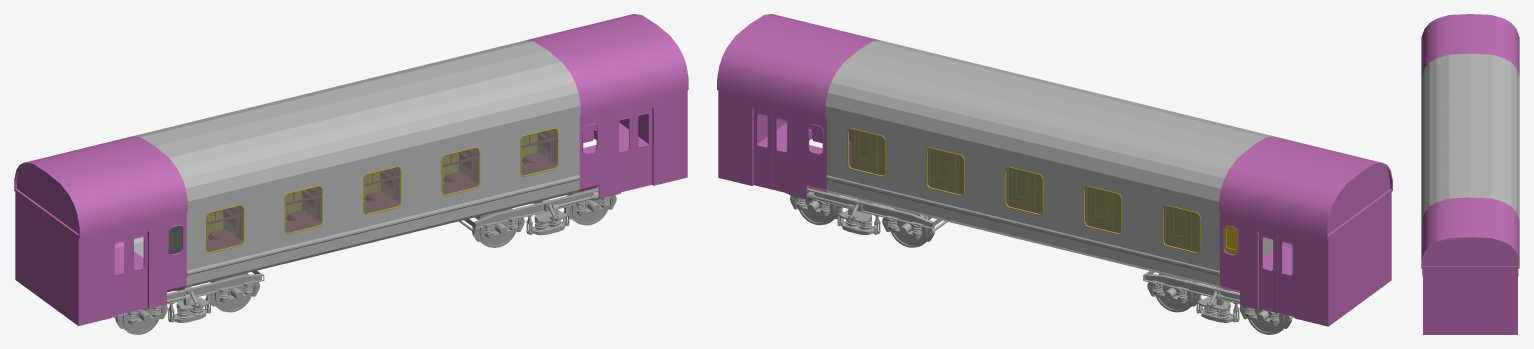
The model's file is Fixed3.fbx.
The picture shows the model from 3 angles, left to right: view 1: azimuth 30°, elevation 25°; view 2: azimuth 150°, elevation 25°; view 3: azimuth 270°, elevation 25°; orthographic projection. The views are drawn at different scales.
Parts seen in each view (by area): view 1: polySurface3 (×5), TrainBody01, WindowGlass01 (×5), Wheels2, Wheels; view 2: polySurface3 (×5), TrainBody01, WindowGlass02 (×5), DoorFrame01 (×5), Wheels2, Wheels; view 3: TrainBody01, polySurface3 (×5).
Part boxes in pixels (left/top/right/bottom): polySurface3 (×5): left=133, top=40, right=580, bottom=288; TrainBody01: left=14, top=14, right=688, bottom=325; WindowGlass01 (×5): left=207, top=129, right=557, bottom=252; Wheels2: left=458, top=187, right=620, bottom=247; Wheels: left=113, top=270, right=264, bottom=334; polySurface3 (×5): left=825, top=40, right=1274, bottom=288; TrainBody01: left=717, top=14, right=1392, bottom=326; WindowGlass02 (×5): left=849, top=129, right=1199, bottom=252; DoorFrame01 (×5): left=851, top=130, right=1237, bottom=254; Wheels2: left=785, top=187, right=947, bottom=247; Wheels: left=1143, top=271, right=1293, bottom=334; TrainBody01: left=1421, top=14, right=1519, bottom=334; polySurface3 (×5): left=1421, top=53, right=1519, bottom=276.
Bounding box in the file's own units: 2368 × 613 × 441.
